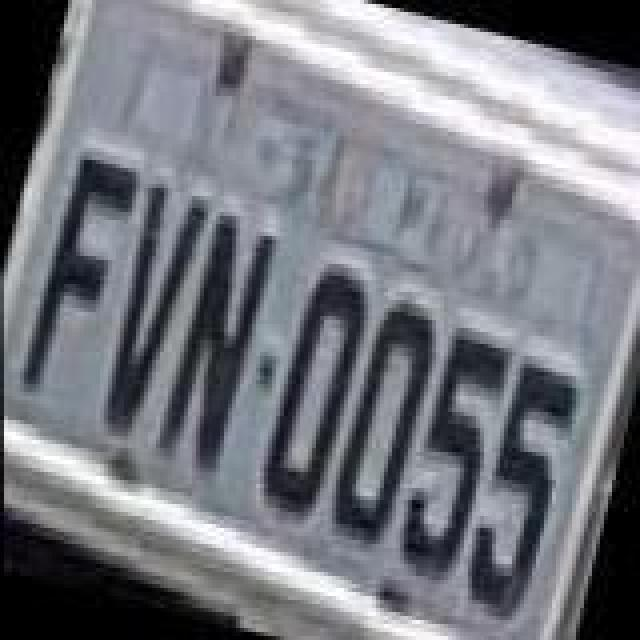5: (454, 354, 590, 630), (384, 324, 516, 596)
F: (16, 148, 148, 412)
N: (150, 206, 286, 482)
O: (248, 256, 380, 528), (322, 294, 450, 554)
V: (90, 176, 218, 448)
